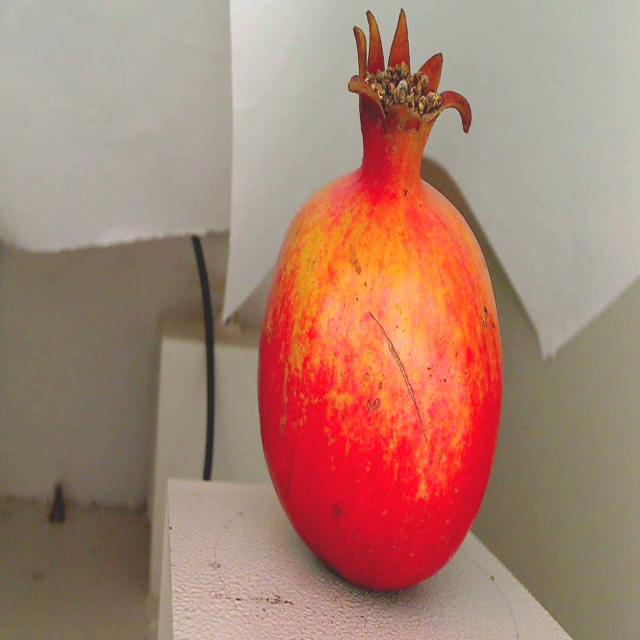pomegranate: (247, 22, 516, 602)
